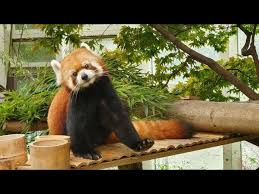redPanda: (47, 41, 153, 159)
